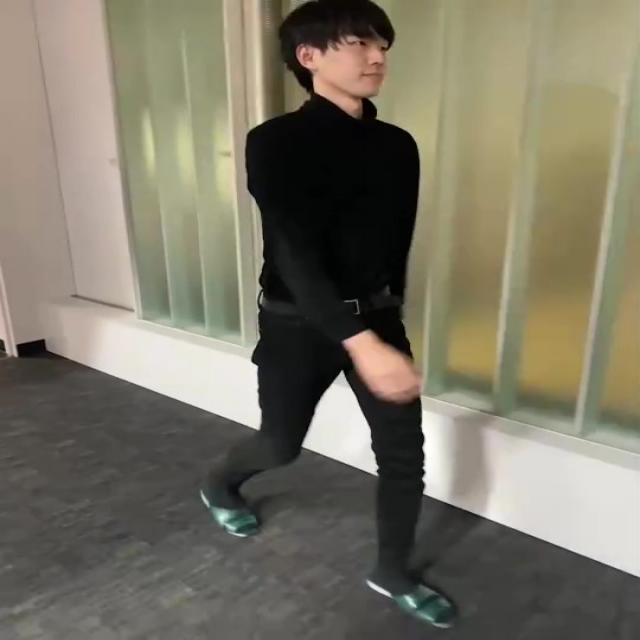direk: (197, 0, 467, 632)
